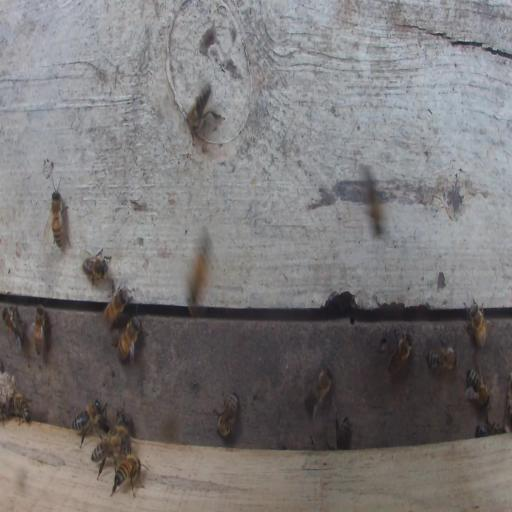bee: (45, 179, 70, 252), (182, 85, 212, 143), (304, 364, 333, 419), (90, 435, 125, 479), (364, 168, 386, 237), (110, 455, 145, 498), (113, 314, 142, 365), (387, 329, 413, 379), (190, 237, 209, 304), (103, 284, 130, 329), (81, 247, 111, 286), (214, 391, 238, 439), (1, 305, 26, 351), (465, 366, 490, 408), (466, 298, 487, 347), (73, 399, 103, 430), (8, 391, 32, 427), (426, 346, 457, 371), (474, 419, 505, 437), (337, 416, 353, 448), (35, 305, 44, 356), (109, 424, 130, 438)
